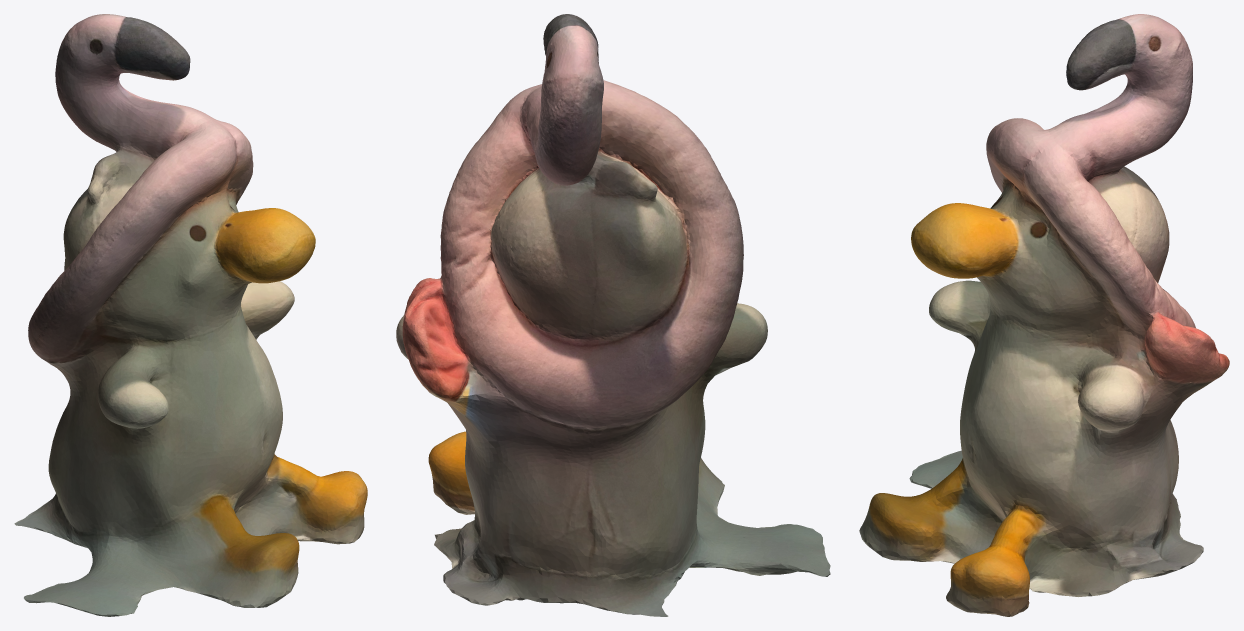
The model's file is Shaman Flamingo Quandale V2.glb.
3 views of the same model, side by side, from view 1: azimuth 30°, elevation 25°; view 2: azimuth 150°, elevation 25°; view 3: azimuth 270°, elevation 25° (orthographic). The views are drawn at different scales.
Size of the model in its own units: 0.8716 by 1.22 by 0.7934.
1 material, 1 textured.
